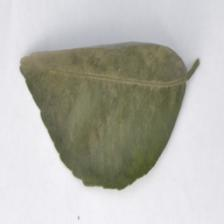healthy: (19, 43, 186, 190)
